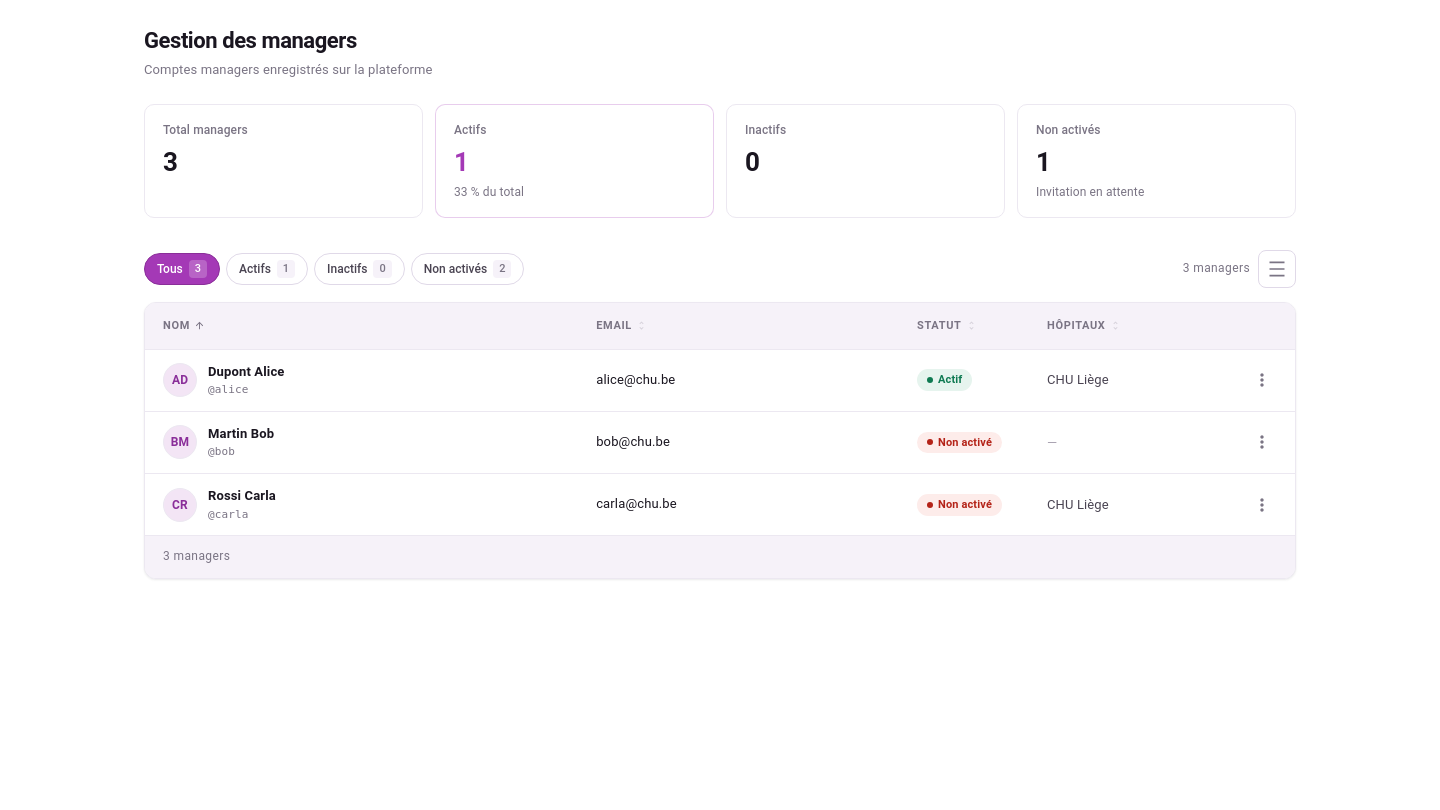
Test: AdminManagersPage › opens delete confirmation dialog
Expected: the text "Dupont Alice" is shown, top-left (208, 362), bottom-right (284, 381)
Click the button with test id "MoreVertIcon" at (1262,380), box top-left (1247, 365), bottom-right (1277, 395)
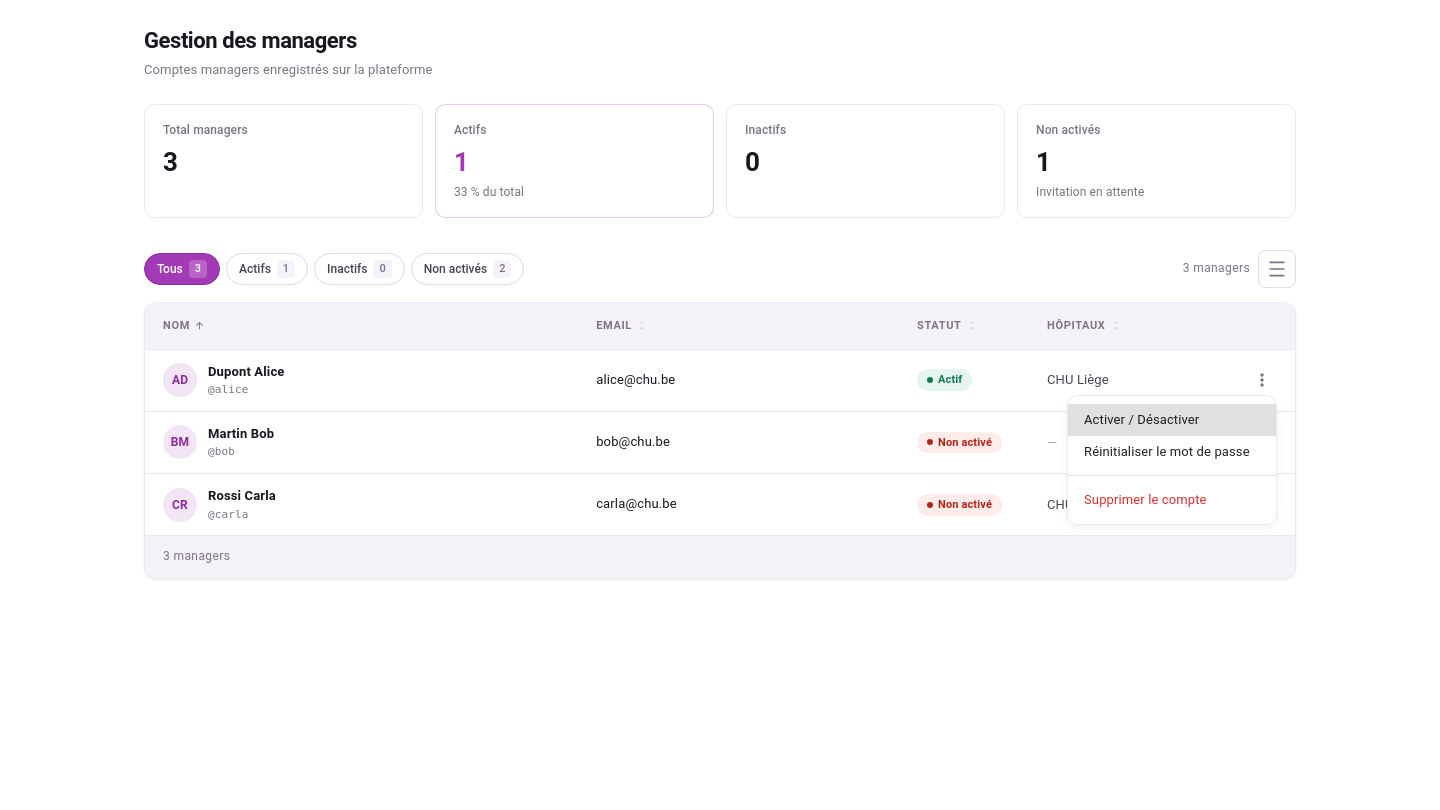
Click the menu item "Supprimer le compte" at (1145,500), box top-left (1084, 492), bottom-right (1207, 507)
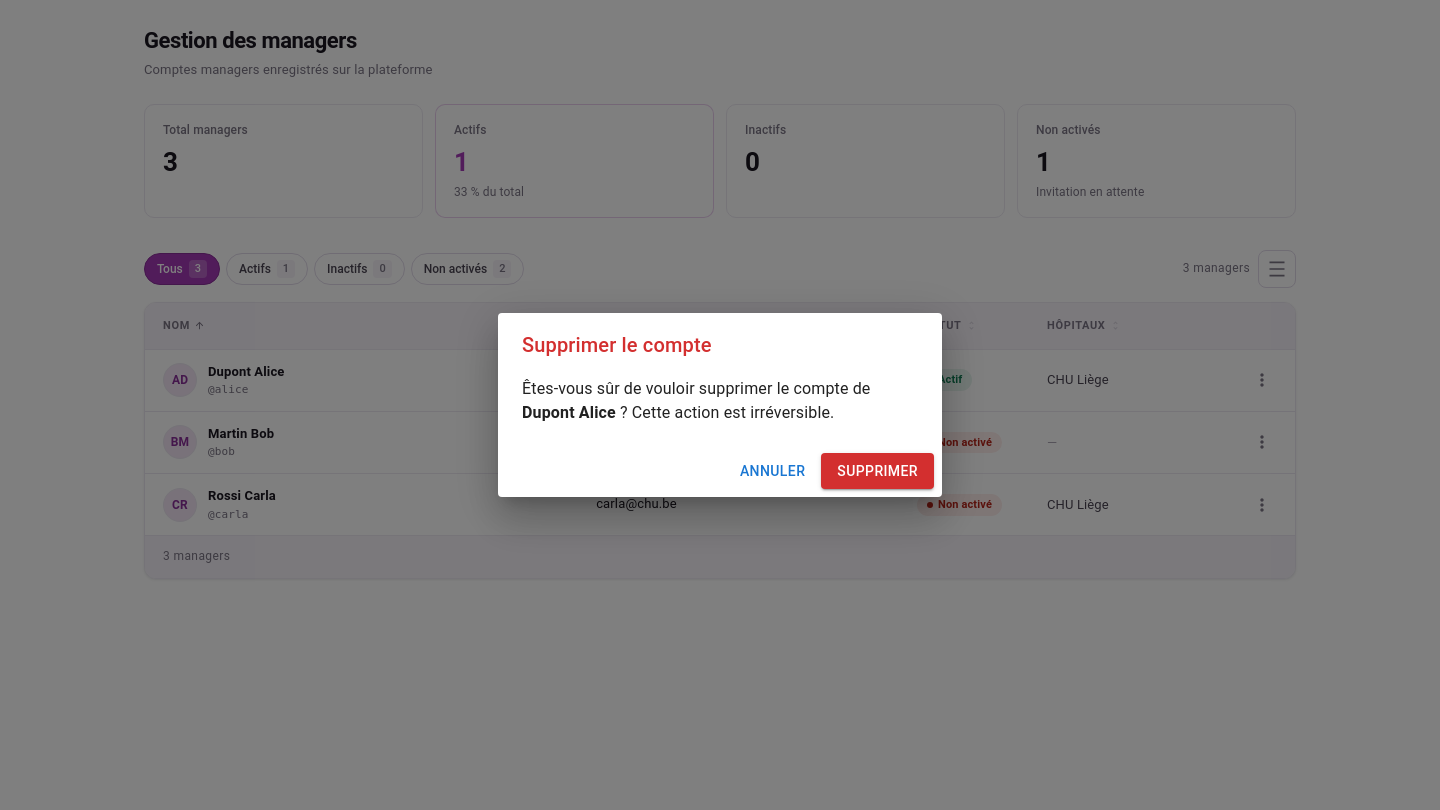
Expected: the text "Cette action est irréversible" is shown, top-left (616, 403), bottom-right (834, 422)
